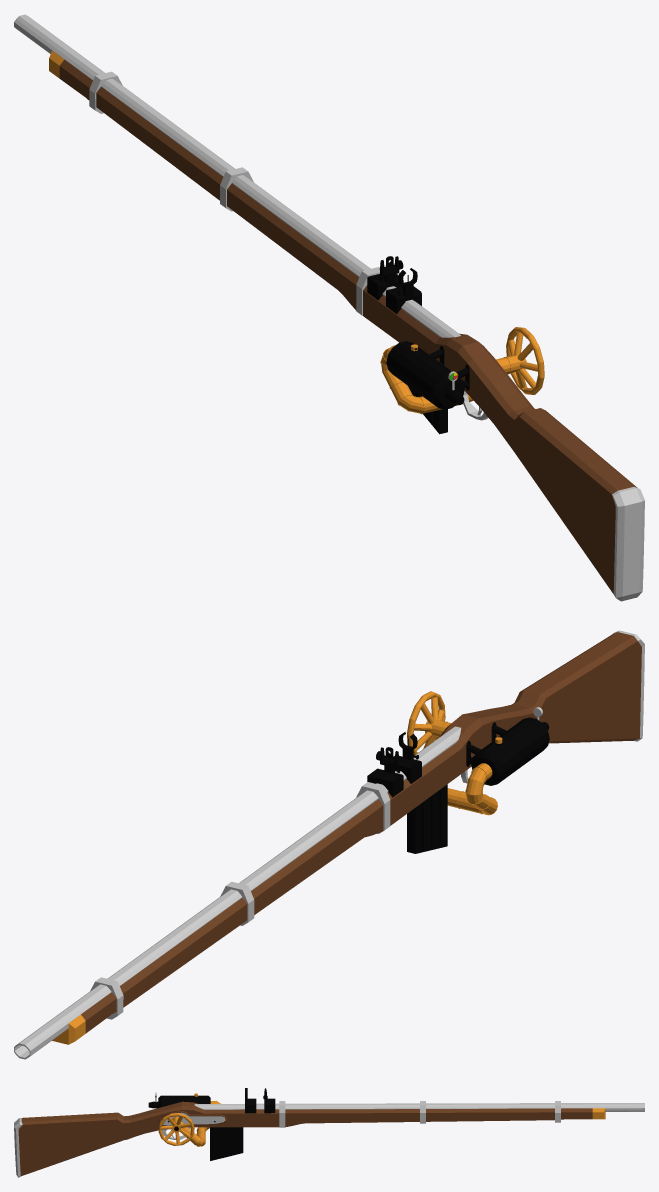
The model's file is Rifle (5).fbx.
The picture shows the model from 3 angles, top to bottom: view 1: azimuth 30°, elevation 25°; view 2: azimuth 150°, elevation 25°; view 3: azimuth 270°, elevation 25°; orthographic projection. The views are drawn at different scales.
Parts seen in each view (by area): view 1: Rifle, Steam Stuff, Iron Sight CIrcle, Iron Sight Rod; view 2: Rifle, Steam Stuff, Magazine, Iron Sight CIrcle, Iron Sight Rod; view 3: Rifle, Steam Stuff, Magazine, Iron Sight Rod, Iron Sight CIrcle.
Part boxes in pixels (box(x1,y1,x2,y2)): Rifle: box(14, 14, 644, 601); Steam Stuff: box(380, 327, 544, 414); Iron Sight CIrcle: box(367, 256, 403, 300); Iron Sight Rod: box(386, 268, 421, 313); Rifle: box(14, 630, 644, 1059); Steam Stuff: box(407, 691, 549, 815); Magazine: box(407, 784, 447, 853); Iron Sight CIrcle: box(367, 747, 403, 797); Iron Sight Rod: box(393, 732, 421, 783); Rifle: box(14, 1101, 644, 1177); Steam Stuff: box(148, 1092, 220, 1146); Magazine: box(210, 1127, 243, 1160); Iron Sight Rod: box(245, 1088, 256, 1113); Iron Sight CIrcle: box(263, 1088, 275, 1113).
Size of the model in its own units: 51.24 by 73.89 by 487.
